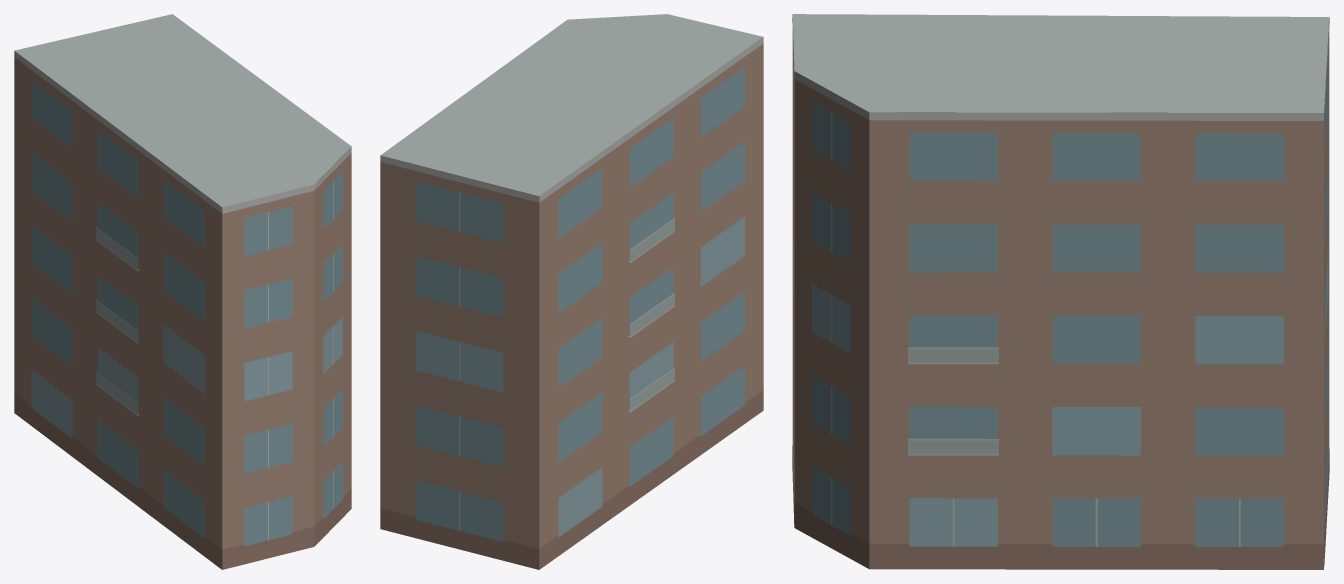
The model's file is survey-upis-33009909.glb.
3 renders of one model, left to right at view 1: azimuth 30°, elevation 25°; view 2: azimuth 150°, elevation 25°; view 3: azimuth 270°, elevation 25°, orthographic. The views are drawn at different scales.
Visible parts, largest first — view 1: survey-upis-33009909.tmp; view 2: survey-upis-33009909.tmp; view 3: survey-upis-33009909.tmp.
Part boxes in pixels (x1,y1,x2,y2): survey-upis-33009909.tmp: (14, 14, 351, 569); survey-upis-33009909.tmp: (380, 14, 763, 569); survey-upis-33009909.tmp: (792, 14, 1329, 569).
Bounding box in the file's own units: 6.49 × 13.95 × 14.86.
